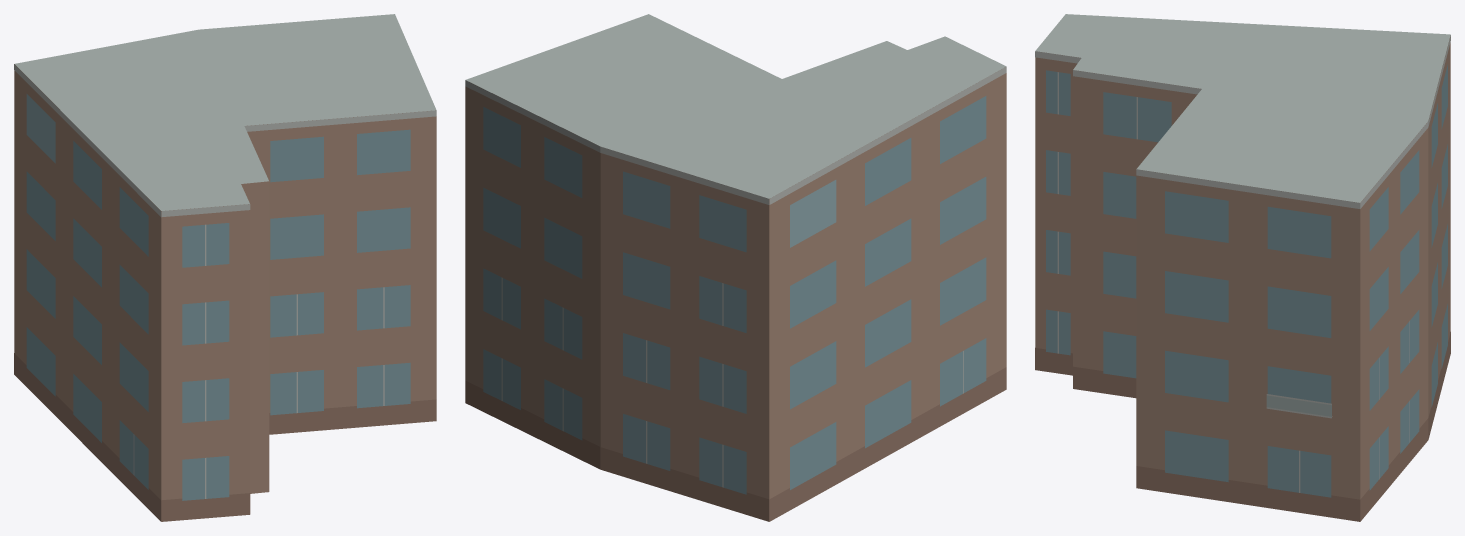
The model's file is survey-upis-32472116.glb.
3 views of the same model, side by side, from view 1: azimuth 30°, elevation 25°; view 2: azimuth 150°, elevation 25°; view 3: azimuth 270°, elevation 25° (orthographic). The views are drawn at different scales.
Visible parts, largest first — view 1: survey-upis-32472116.tmp; view 2: survey-upis-32472116.tmp; view 3: survey-upis-32472116.tmp.
Part boxes in pixels (<box>): survey-upis-32472116.tmp: <box>14,14,436,521</box>; survey-upis-32472116.tmp: <box>465,14,1006,521</box>; survey-upis-32472116.tmp: <box>1035,14,1450,521</box>.
Size of the model in its own units: 15.76 by 12.4 by 14.66.
